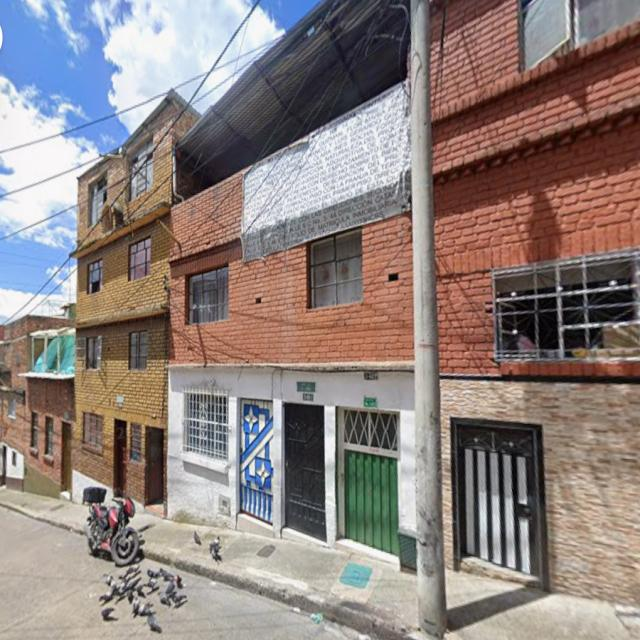fachada: (432, 0, 639, 602), (73, 91, 198, 512), (0, 316, 74, 497)
poste: (411, 0, 446, 638)
